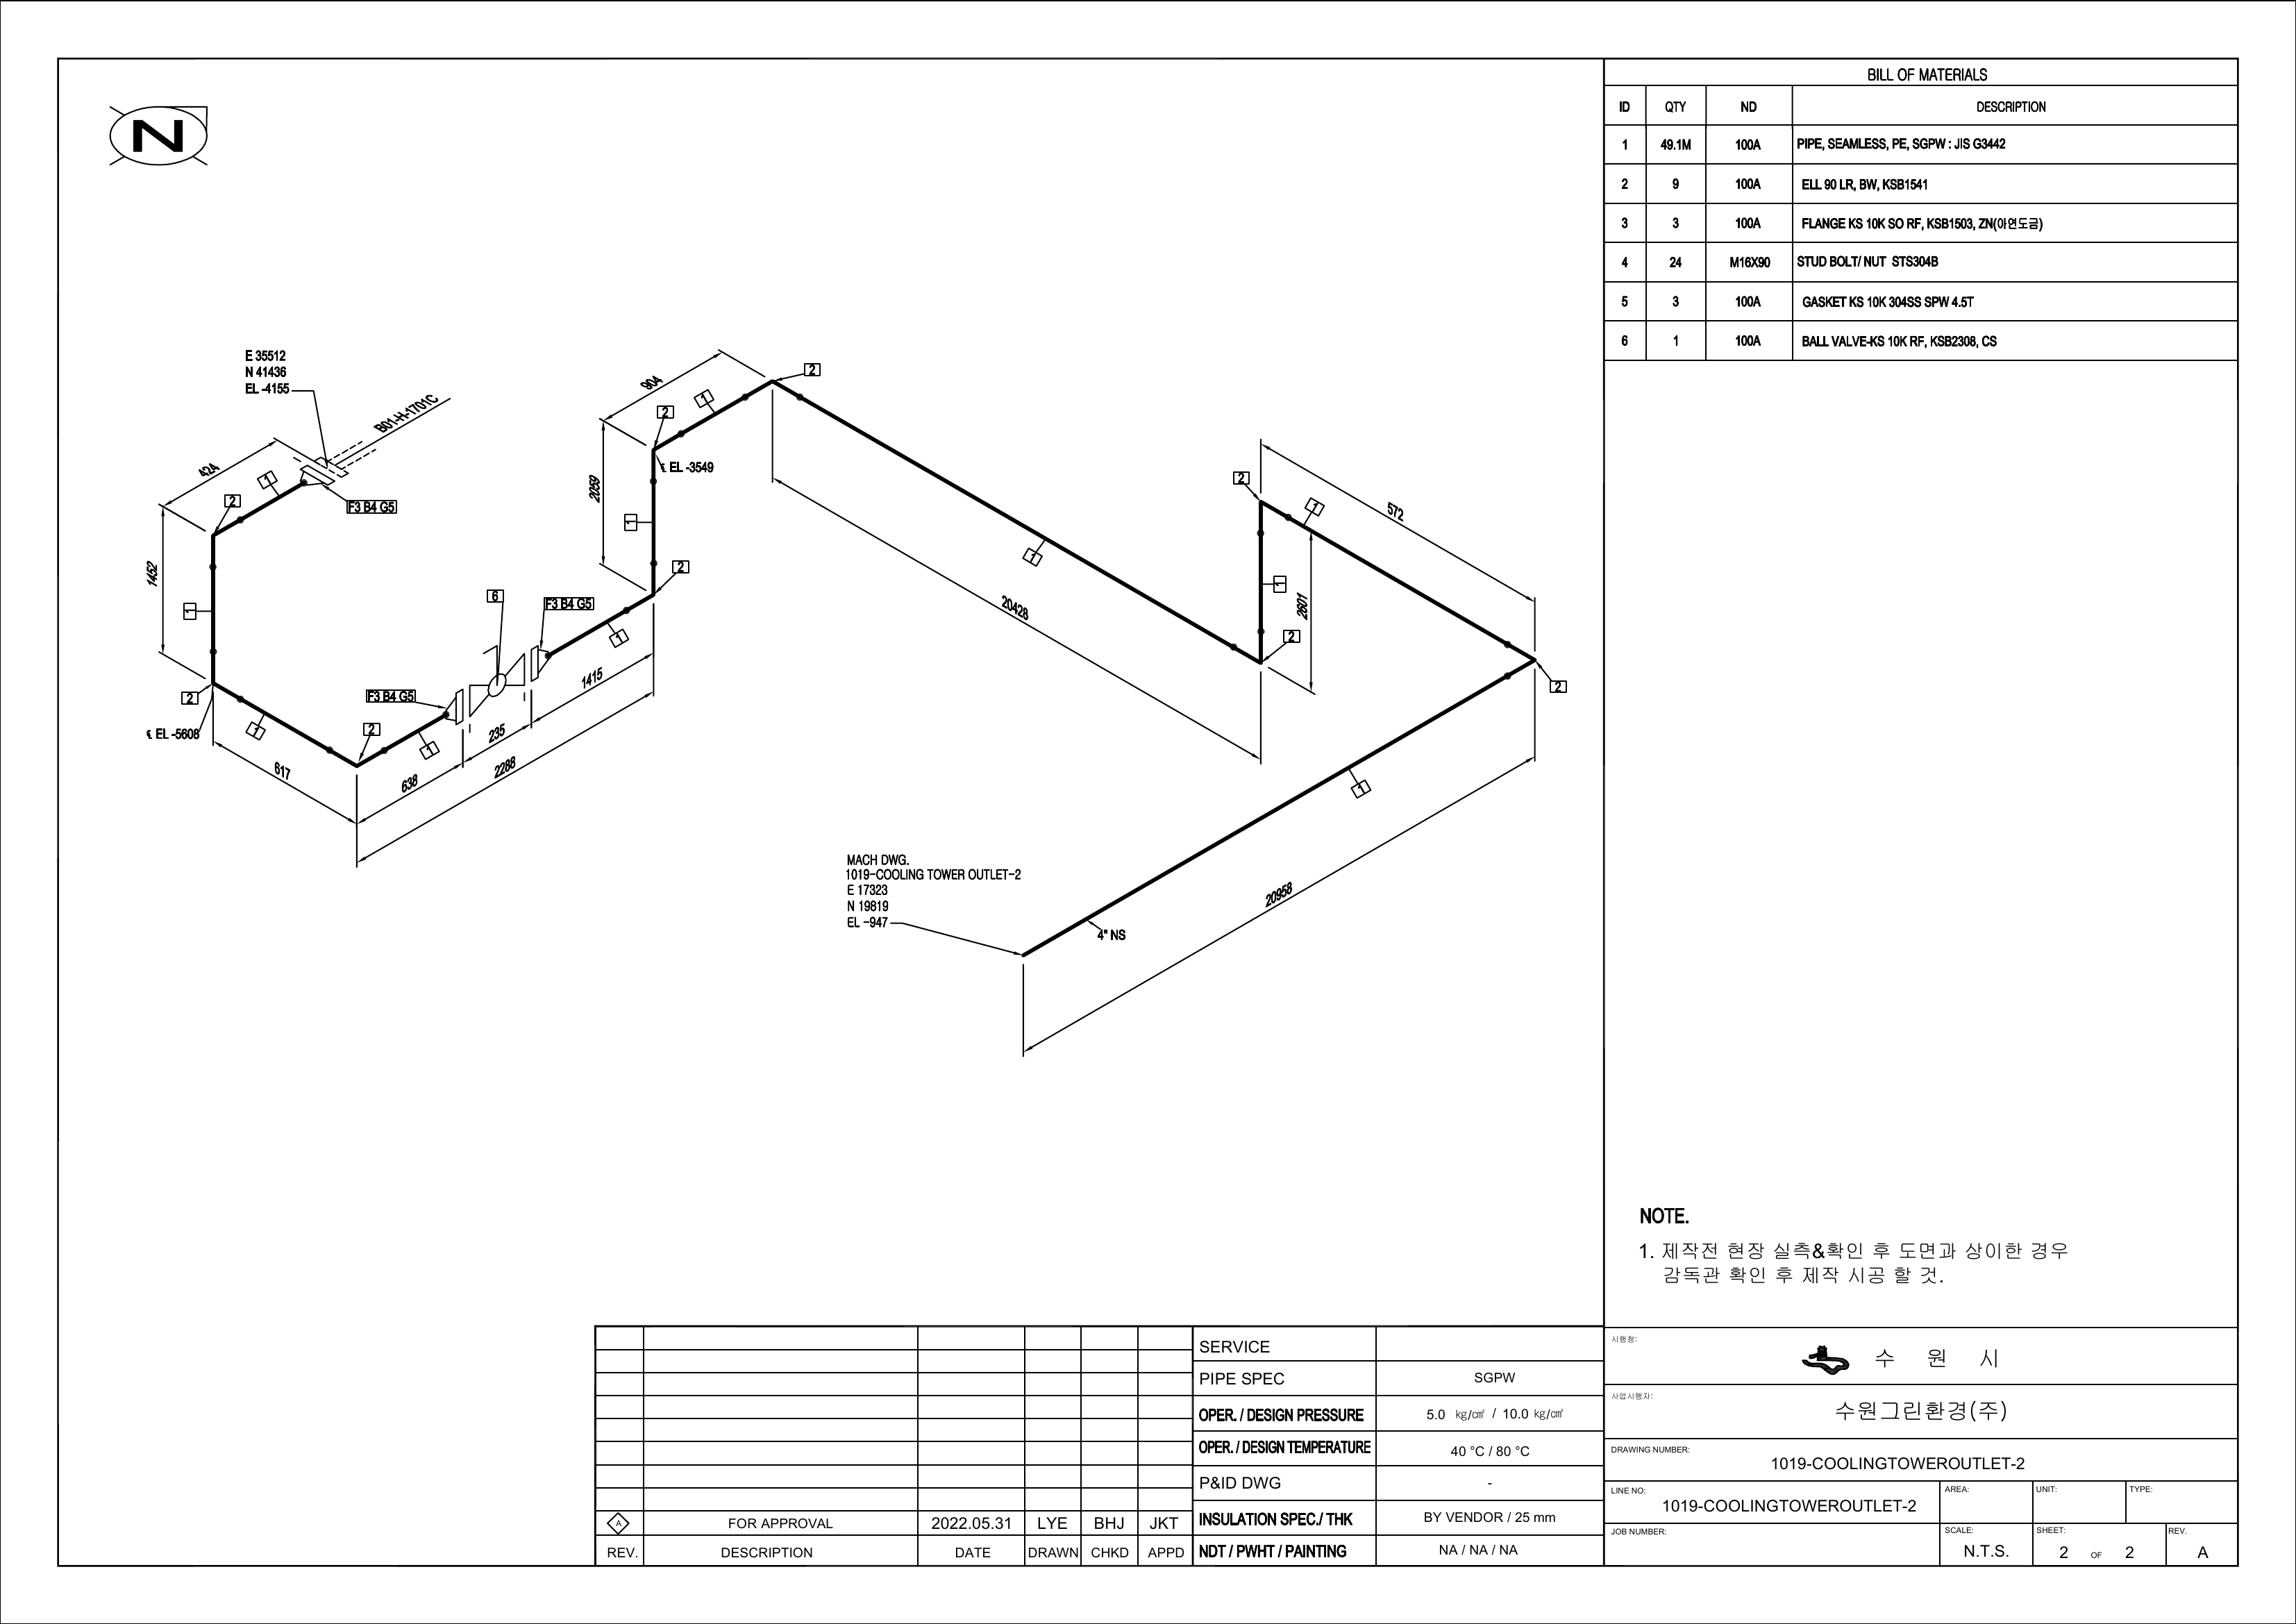table: (1595, 47, 2243, 371)
